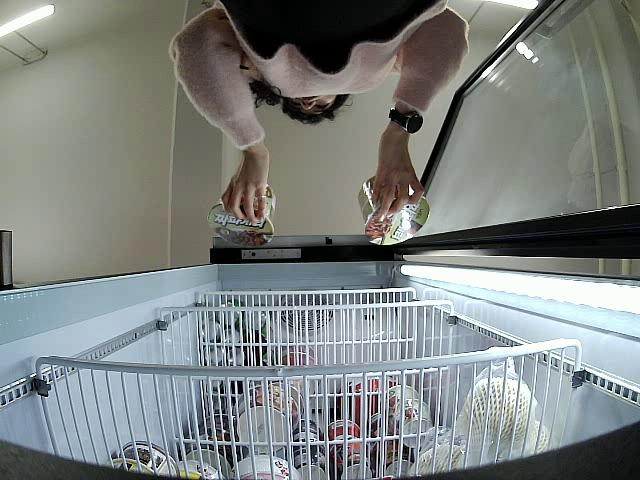00_hand: (372, 124, 424, 224), (220, 151, 270, 225)
03_chapagetti_L: (359, 177, 431, 249), (207, 180, 276, 250)
